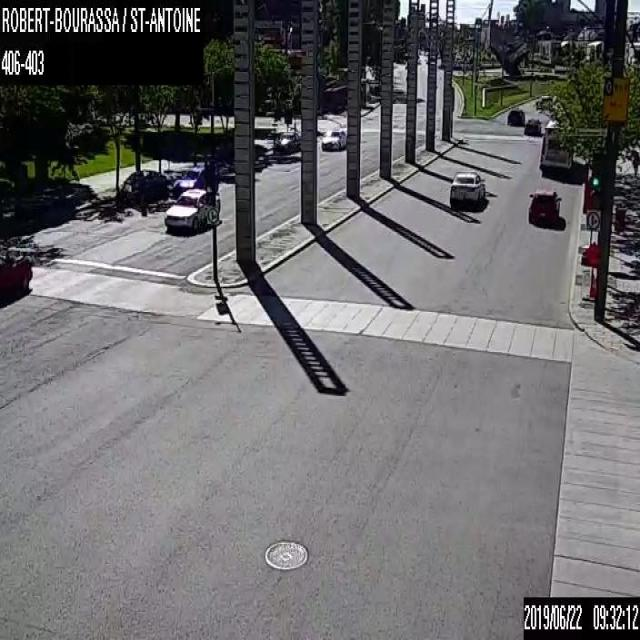bus: (538, 118, 572, 173)
construction: (581, 240, 597, 303), (588, 274, 596, 300)
pedestrian: (631, 149, 639, 177)
vehicle: (164, 187, 222, 232), (0, 248, 33, 309), (115, 168, 168, 204), (448, 168, 485, 211), (172, 165, 217, 197), (528, 188, 562, 227), (320, 128, 348, 150), (274, 130, 301, 152), (523, 117, 542, 135), (535, 94, 552, 111), (507, 108, 523, 125)
